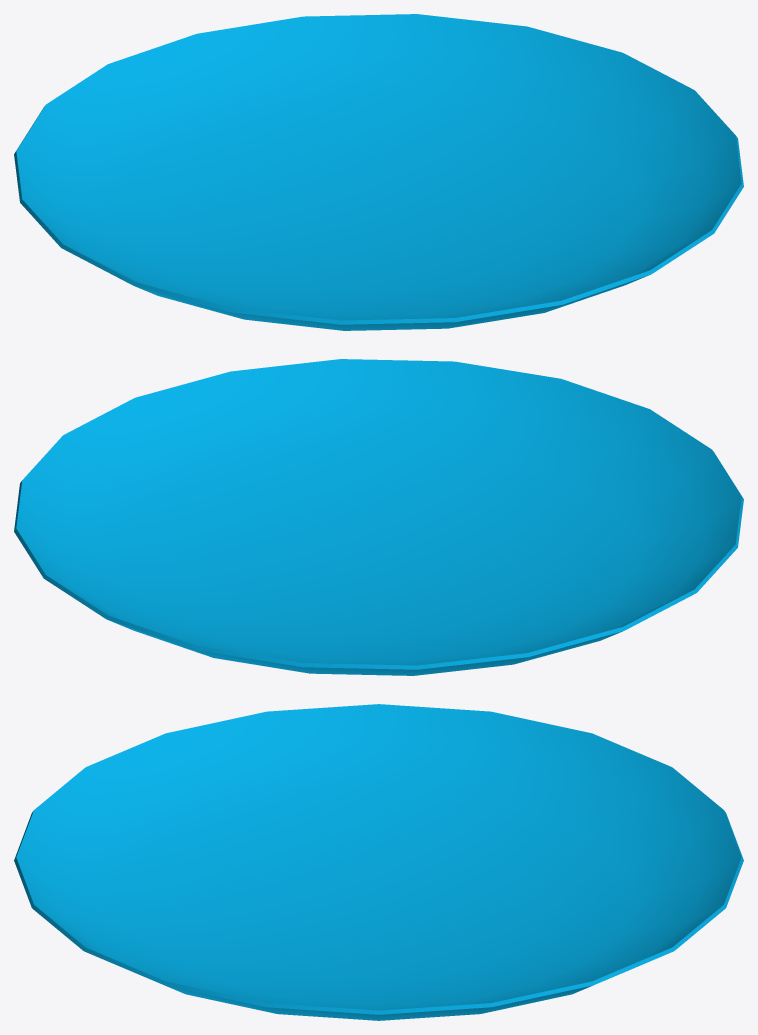
File: Ceiling_Lamp_02_Bulb.fbx
3 renders of one model, top to bottom at view 1: azimuth 30°, elevation 25°; view 2: azimuth 150°, elevation 25°; view 3: azimuth 270°, elevation 25°, orthographic.
Parts seen in each view (by area): view 1: Ceiling_Lamp_02_Bulb; view 2: Ceiling_Lamp_02_Bulb; view 3: Ceiling_Lamp_02_Bulb.
Part boxes in pixels (left/top/right/bottom): Ceiling_Lamp_02_Bulb: left=14, top=14, right=743, bottom=330; Ceiling_Lamp_02_Bulb: left=14, top=359, right=743, bottom=675; Ceiling_Lamp_02_Bulb: left=14, top=704, right=743, bottom=1020.
Size of the model in its own units: 48.3 by 4.63 by 48.3.
